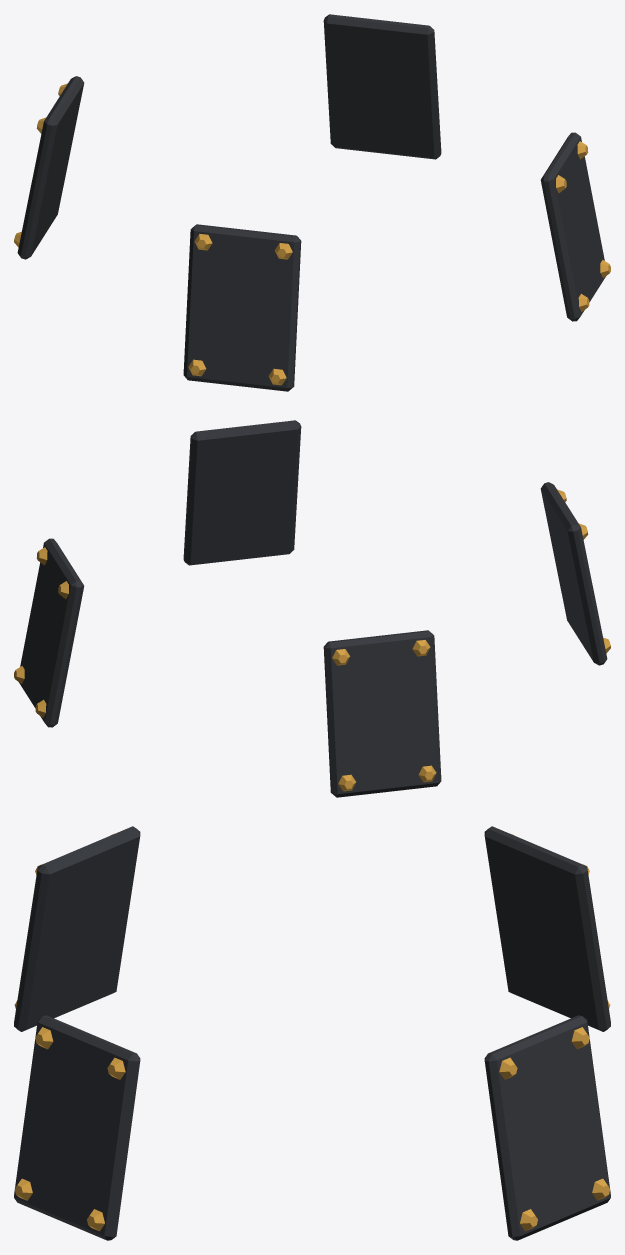
Rendered from FlameKit5.obj.
3 renders of one model, top to bottom at view 1: azimuth 30°, elevation 25°; view 2: azimuth 150°, elevation 25°; view 3: azimuth 270°, elevation 25°, orthographic. The views are drawn at different scales.
Parts seen in each view (by area): view 1: FlameKit5; view 2: FlameKit5; view 3: FlameKit5.
Part boxes in pixels (left/top/right/bottom): FlameKit5: left=14, top=14, right=610, bottom=391; FlameKit5: left=14, top=420, right=610, bottom=797; FlameKit5: left=14, top=826, right=610, bottom=1240.
Size of the model in its own units: 1.03 by 0.3362 by 1.03.
